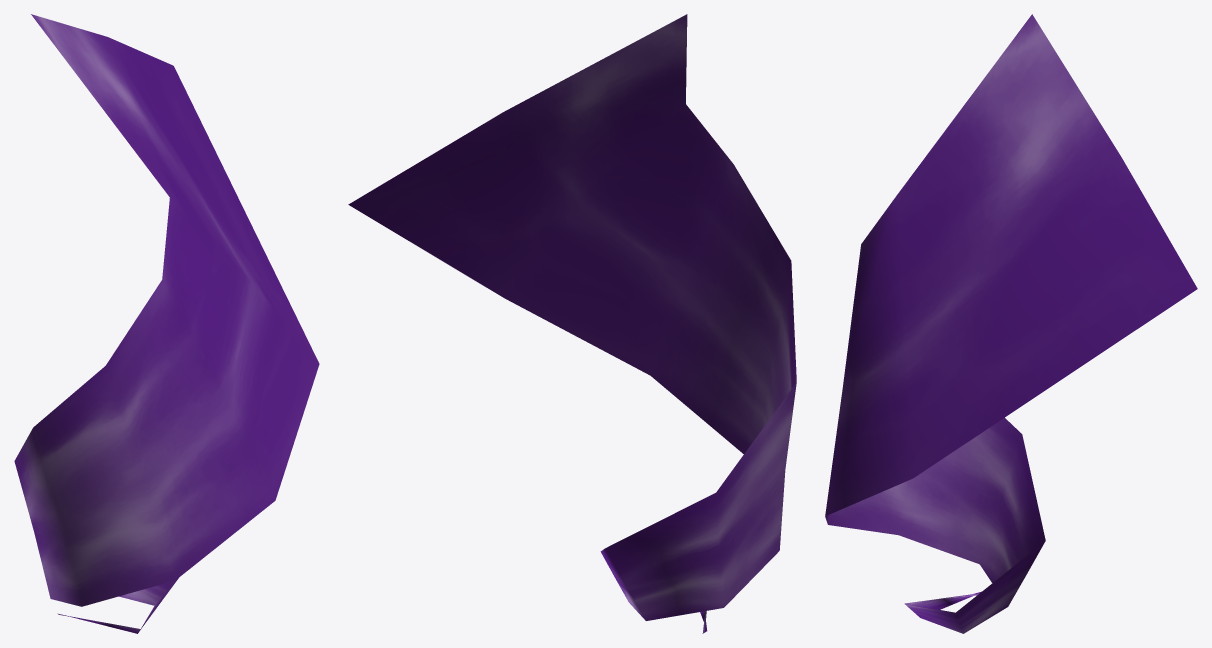
Rendered from ef-common-w3-skill0078-E01b.FBX.
3 views of the same model, side by side, from view 1: azimuth 30°, elevation 25°; view 2: azimuth 150°, elevation 25°; view 3: azimuth 270°, elevation 25° (orthographic). The views are drawn at different scales.
Visible parts, largest first — view 1: ef-common-w3-skill0078-E01b; view 2: ef-common-w3-skill0078-E01b; view 3: ef-common-w3-skill0078-E01b.
Boxes of the visible parts, x1,y1,x2,y2 form: ef-common-w3-skill0078-E01b: (14, 14, 319, 633); ef-common-w3-skill0078-E01b: (348, 14, 796, 633); ef-common-w3-skill0078-E01b: (825, 14, 1197, 633).
Bounding box in the file's own units: 91.44 × 186 × 108.
